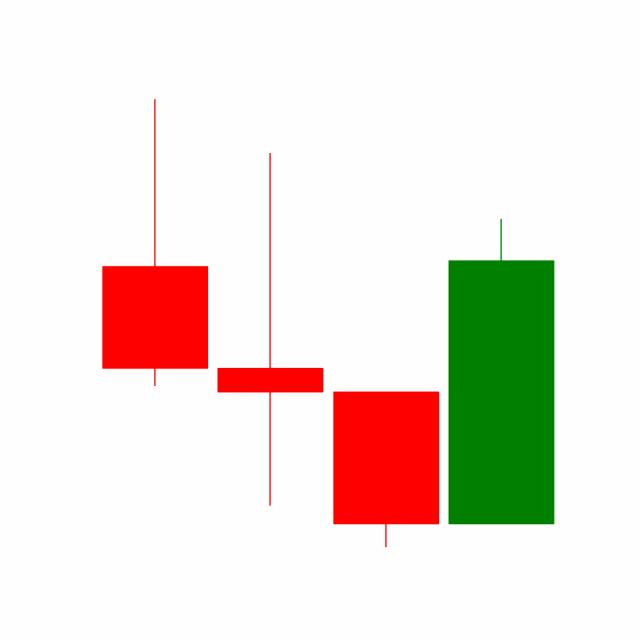Marubozu: (328, 389, 444, 549)
